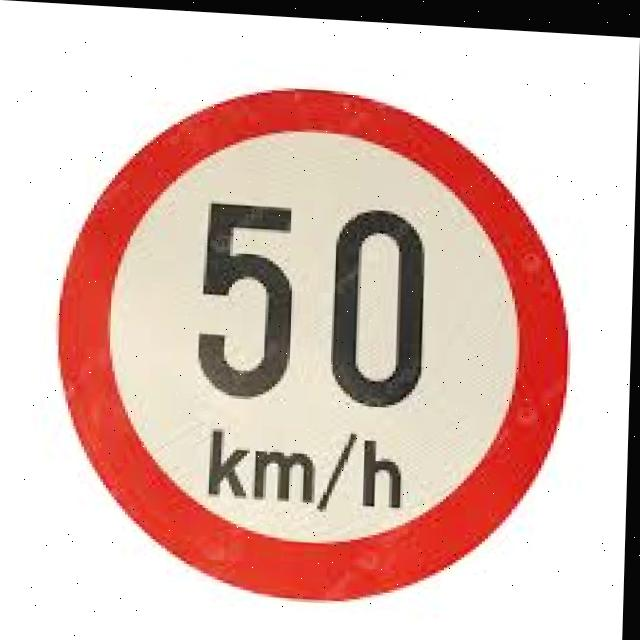Speed limit 50: (50, 70, 582, 611)
